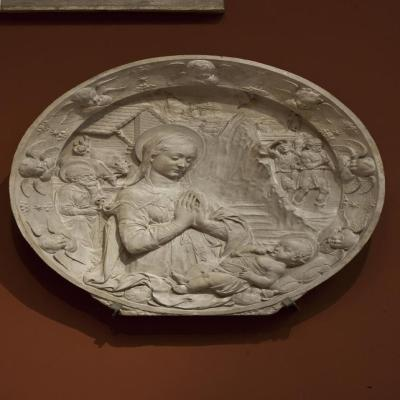sculpture: (9, 55, 386, 323)
